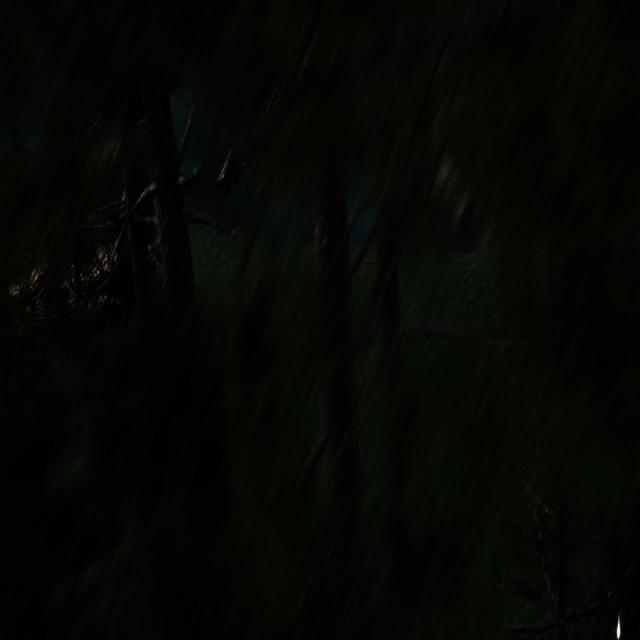Human: (176, 126, 243, 204)
